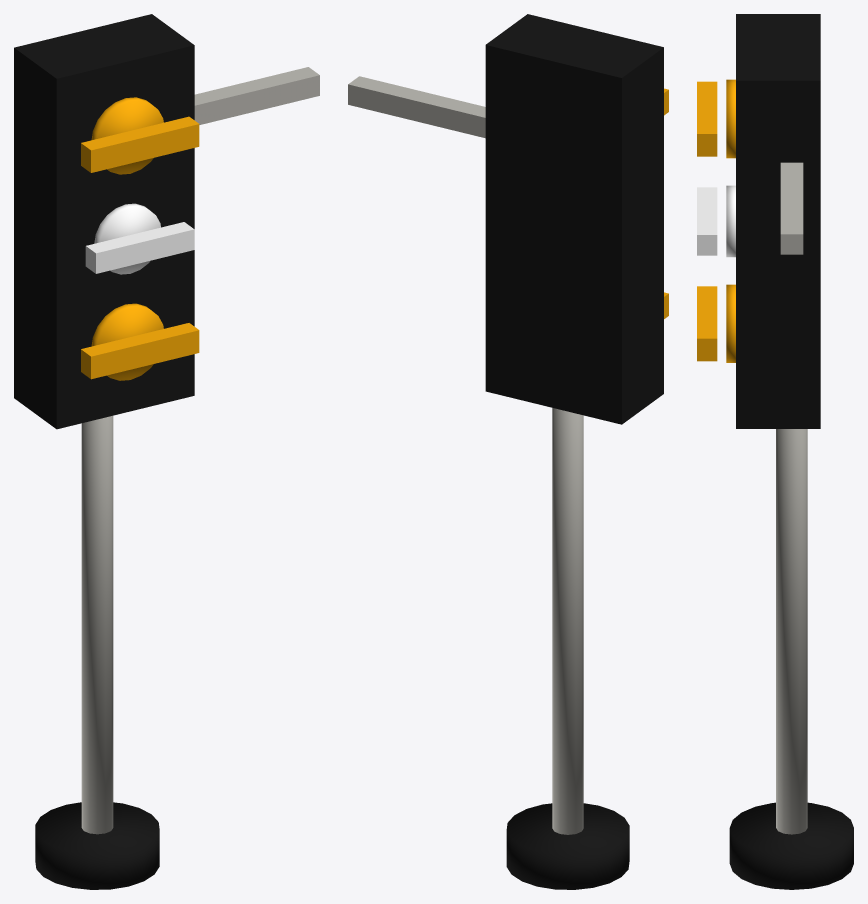
The model's file is prop_traffic_light.glb.
The picture shows the model from 3 angles, left to right: view 1: azimuth 30°, elevation 25°; view 2: azimuth 150°, elevation 25°; view 3: azimuth 270°, elevation 25°; orthographic projection.
Visible parts, largest first — view 1: traffic light black head, traffic light pole, traffic light base, traffic small cross arm, traffic side visor top, traffic side visor bottom, traffic side visor mid, traffic bottom yellow lamp, traffic top yellow lamp, traffic middle white lamp; view 2: traffic light black head, traffic light pole, traffic light base, traffic small cross arm; view 3: traffic light black head, traffic light pole, traffic light base, traffic small cross arm, traffic side visor top, traffic side visor bottom, traffic side visor mid, traffic top yellow lamp, traffic bottom yellow lamp, traffic middle white lamp.
Part boxes in pixels (x1,y1,x2,y2): traffic light black head: (14, 14, 194, 429); traffic light pole: (81, 415, 113, 834); traffic light base: (35, 802, 159, 889); traffic small cross arm: (194, 67, 319, 124); traffic side visor top: (81, 116, 199, 172); traffic side visor bottom: (81, 323, 199, 379); traffic side visor mid: (85, 222, 194, 273); traffic bottom yellow lamp: (91, 303, 163, 380); traffic top yellow lamp: (91, 97, 163, 174); traffic middle white lamp: (94, 203, 160, 274); traffic light black head: (485, 14, 663, 424); traffic light pole: (552, 408, 583, 834); traffic light base: (506, 803, 629, 889); traffic small cross arm: (348, 76, 485, 138); traffic light black head: (736, 14, 820, 428); traffic light pole: (776, 429, 807, 834); traffic light base: (729, 802, 853, 889); traffic small cross arm: (780, 162, 803, 254); traffic side visor top: (697, 81, 717, 156); traffic side visor bottom: (697, 286, 717, 361); traffic side visor mid: (697, 187, 717, 255); traffic top yellow lamp: (726, 79, 735, 158); traffic bottom yellow lamp: (726, 284, 735, 362); traffic middle white lamp: (726, 185, 735, 257).
Bounding box in the file's own units: 0.29 × 0.7975 × 0.139.
